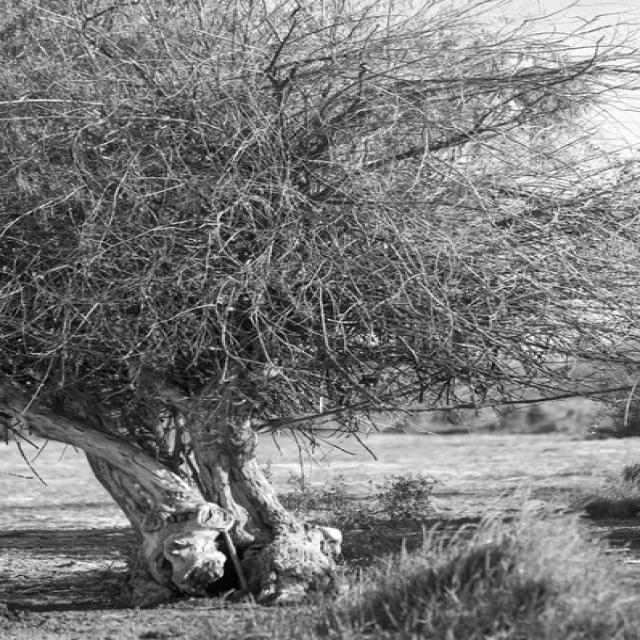Tree: (1, 1, 638, 606)
